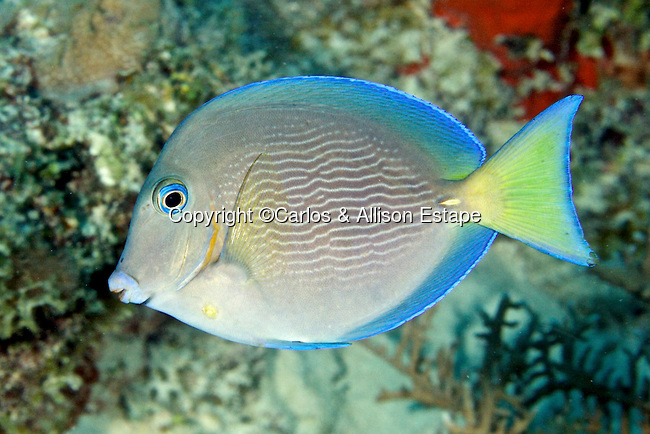Acanthurus_coeruleus: (105, 75, 599, 351)
